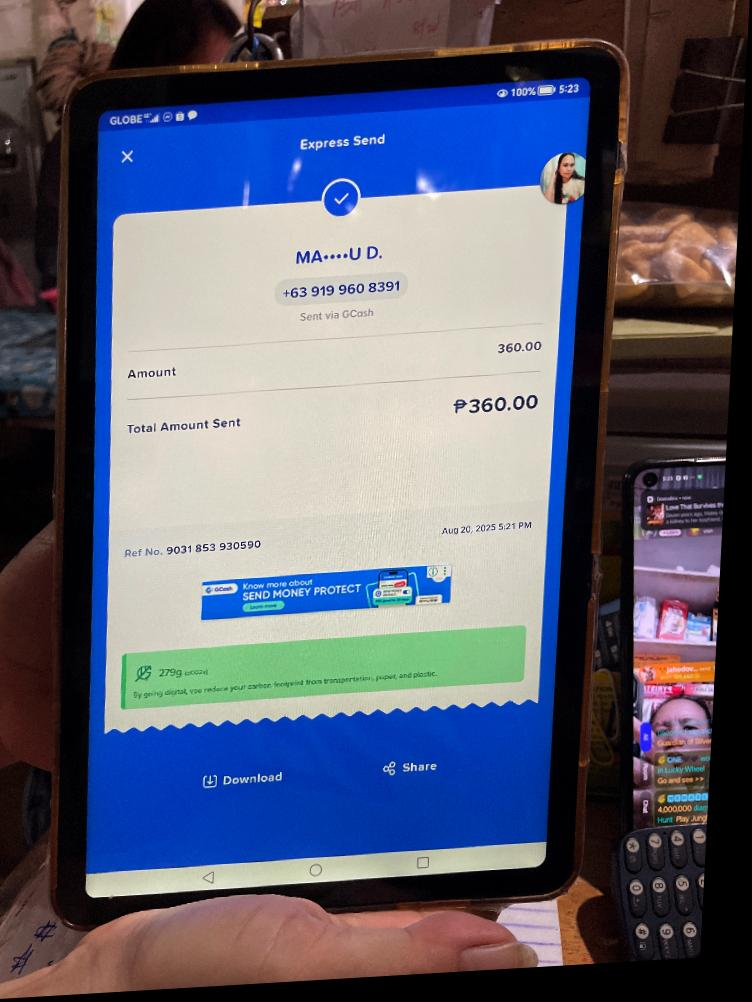Receipt: (79, 96, 589, 872)
